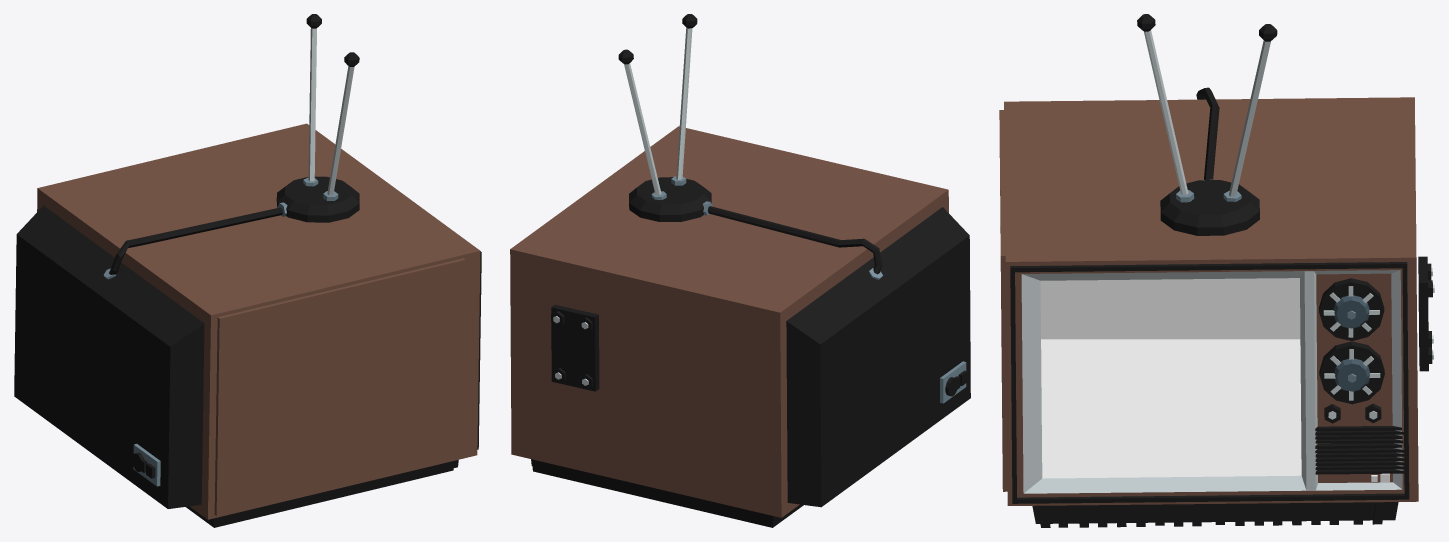
The picture shows the model from 3 angles, left to right: view 1: azimuth 30°, elevation 25°; view 2: azimuth 150°, elevation 25°; view 3: azimuth 270°, elevation 25°; orthographic projection. The views are drawn at different scales.
Visible parts, largest first — view 1: group1078865745; view 2: group1078865745; view 3: group1078865745.
Part boxes in pixels (x1,y1,x2,y2): group1078865745: (14,14,481,527); group1078865745: (510,14,970,527); group1078865745: (999,14,1434,527).
Size of the model in its own units: 0.6281 by 0.7528 by 0.6239.
